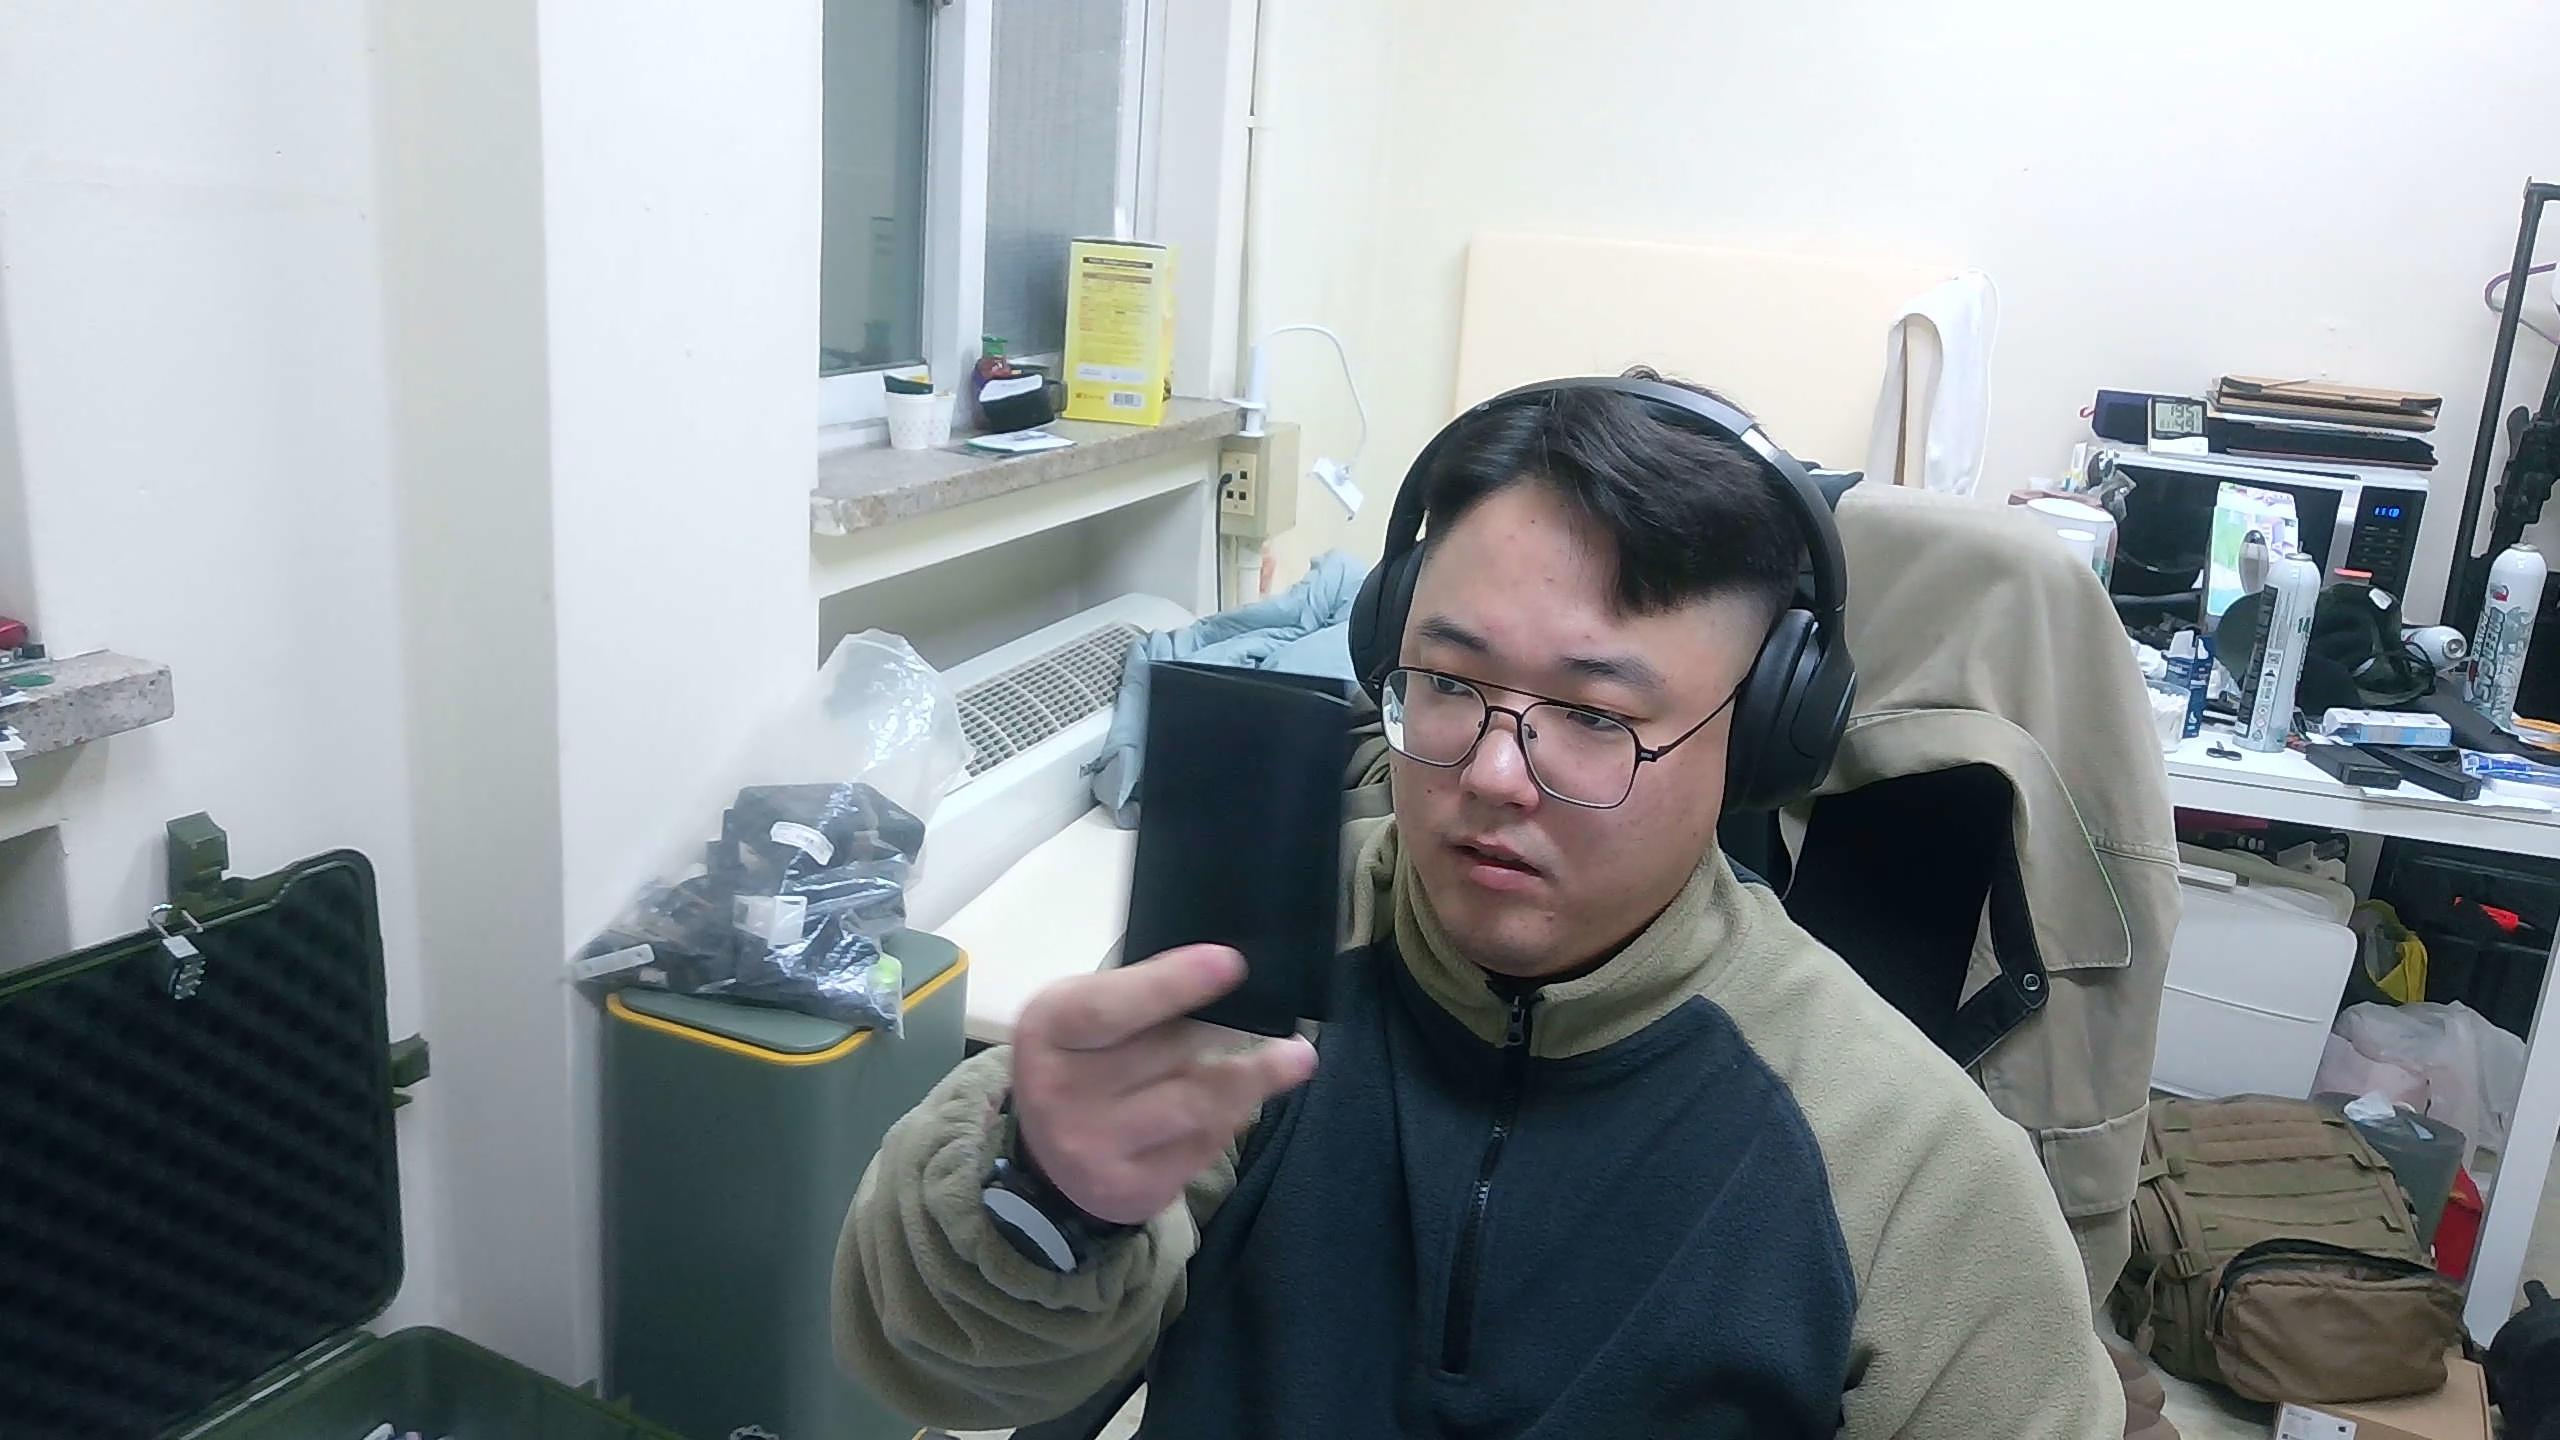earphone: (1118, 654, 1361, 1043)
